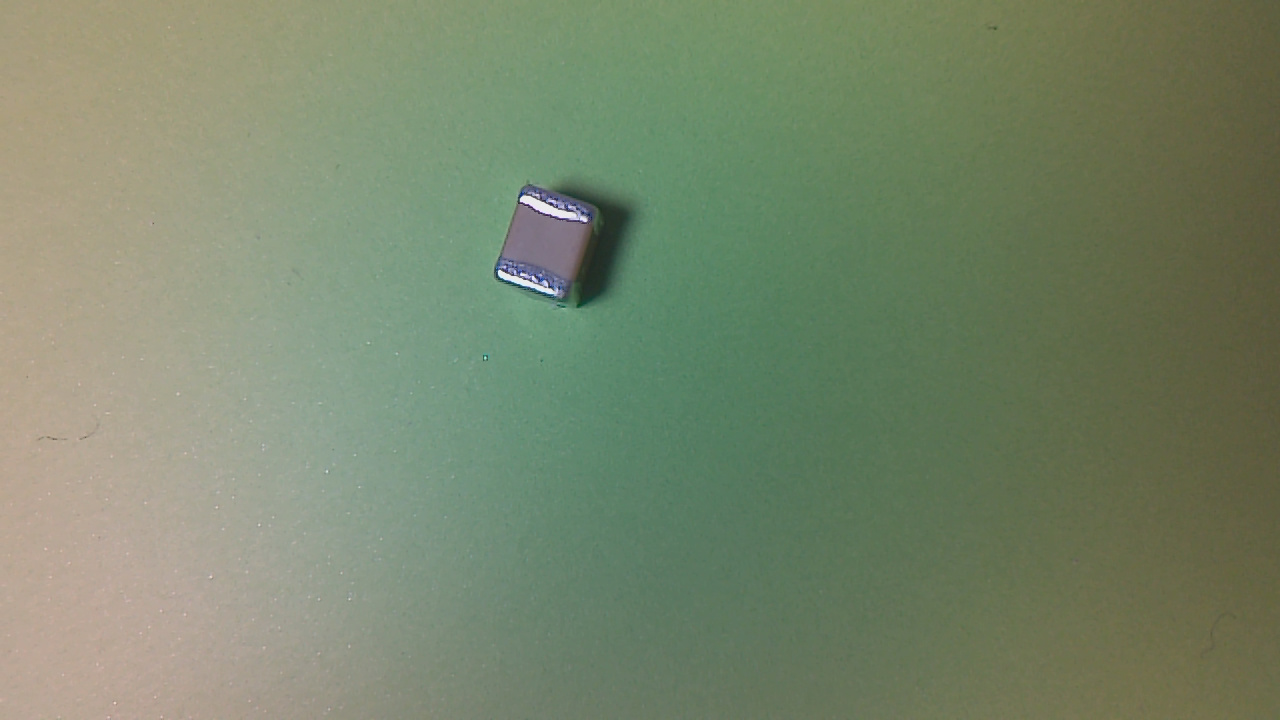Condensator: (494, 186, 613, 309)
